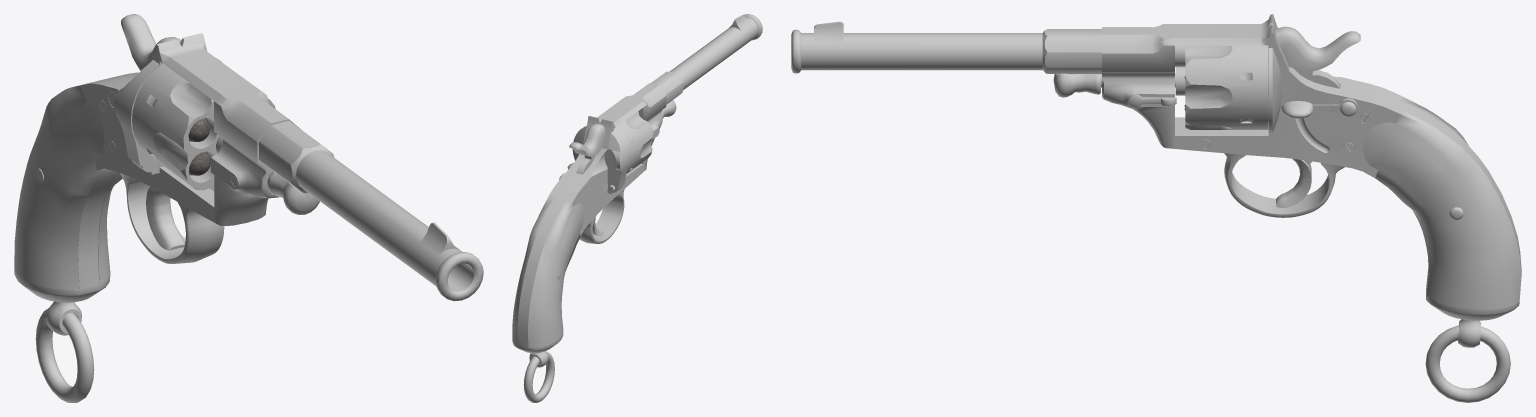
Rendered from render.fbx.
3 views of the same model, side by side, from view 1: azimuth 30°, elevation 25°; view 2: azimuth 150°, elevation 25°; view 3: azimuth 270°, elevation 25° (orthographic). The views are drawn at different scales.
Visible parts, largest first — view 1: frame_low.003, grips_low.003, barrel_low.003, cylinder_low.003, trigger_frame_low.003, ring_low.003, cylinder_opener_low.003, trigger_low.003, hammer_low.003, rod_low.003, handle_ring_holder_low.003; view 2: frame_low.003, grips_low.003, barrel_low.003, cylinder_low.003, trigger_frame_low.003, cylinder_opener_low.003, hammer_low.003, ring_low.003, cap_low.003; view 3: grips_low.003, frame_low.003, barrel_low.003, cap_low.003, cylinder_low.003, ring_low.003, hammer_low.003, trigger_frame_low.003, rod_low.003, trigger_low.003, safety_low.003.
Boxes of the visible parts, x1,y1,x2,y2 form: frame_low.003: (14, 33, 302, 302); grips_low.003: (14, 83, 122, 289); barrel_low.003: (258, 121, 483, 301); cylinder_low.003: (132, 64, 275, 191); trigger_frame_low.003: (120, 173, 224, 264); ring_low.003: (35, 308, 94, 402); cylinder_opener_low.003: (114, 60, 159, 172); trigger_low.003: (146, 186, 185, 250); hammer_low.003: (121, 14, 180, 70); rod_low.003: (267, 171, 319, 214); handle_ring_holder_low.003: (46, 301, 81, 335); frame_low.003: (512, 83, 666, 353); grips_low.003: (512, 196, 584, 347); barrel_low.003: (650, 14, 762, 104); cylinder_low.003: (614, 112, 653, 173); trigger_frame_low.003: (579, 189, 624, 243); cylinder_opener_low.003: (604, 130, 629, 192); hammer_low.003: (569, 123, 604, 174); ring_low.003: (523, 351, 554, 402); cap_low.003: (549, 154, 584, 197); grips_low.003: (1362, 95, 1521, 309); frame_low.003: (1102, 14, 1521, 320); barrel_low.003: (791, 21, 1101, 73); cap_low.003: (1191, 66, 1400, 177); cylinder_low.003: (1175, 45, 1268, 129); ring_low.003: (1425, 325, 1510, 402); hammer_low.003: (1275, 26, 1360, 88); trigger_frame_low.003: (1224, 153, 1344, 217); rod_low.003: (1053, 73, 1175, 97); trigger_low.003: (1276, 159, 1312, 207); safety_low.003: (1281, 98, 1358, 118).
Bounding box in the file's own units: 4.31 × 17.7 × 30.79.
